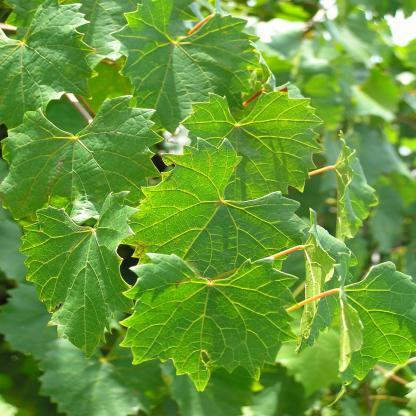grape leaf black rot: (126, 140, 316, 292), (110, 254, 301, 396), (18, 186, 140, 367), (108, 0, 264, 134), (2, 91, 156, 223), (177, 88, 324, 199), (333, 258, 416, 402), (0, 3, 92, 130), (296, 206, 362, 364), (328, 128, 396, 254)
